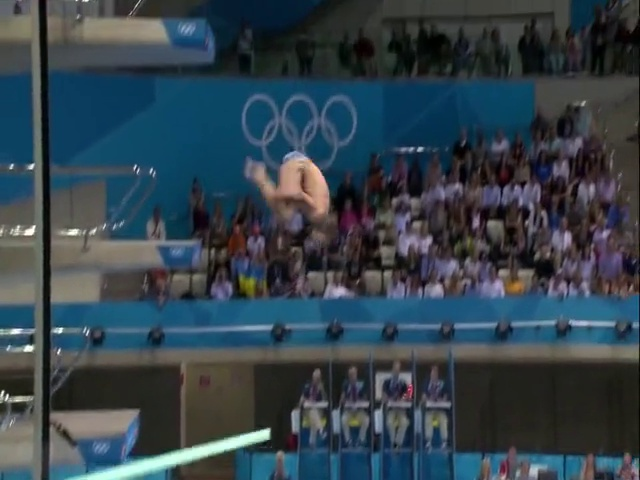diver: (241, 149, 340, 248)
